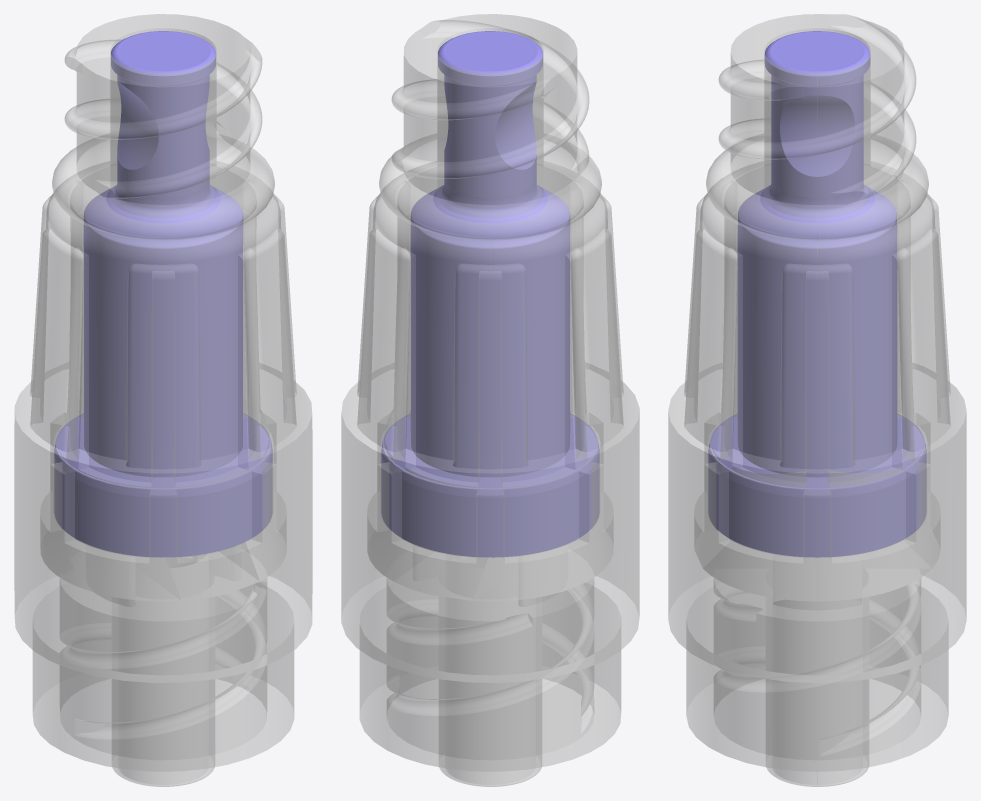
Rendered from BD_MaxZero_v4.glb.
The picture shows the model from 3 angles, left to right: view 1: azimuth 30°, elevation 25°; view 2: azimuth 150°, elevation 25°; view 3: azimuth 270°, elevation 25°; orthographic projection.
Parts seen in each view (by area): view 1: plastico trans, borracha; view 2: plastico trans, borracha; view 3: plastico trans, borracha.
Boxes of the visible parts, left/top/right/bottom form: plastico trans: left=14, top=14, right=312, bottom=786; borracha: left=54, top=31, right=272, bottom=557; plastico trans: left=341, top=14, right=639, bottom=786; borracha: left=381, top=31, right=599, bottom=557; plastico trans: left=668, top=14, right=966, bottom=786; borracha: left=708, top=31, right=926, bottom=557.
Size of the model in its own units: 0.0115 by 0.0304 by 0.0115.
